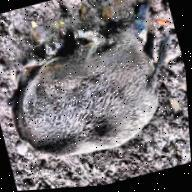boar: (0, 9, 192, 189)
